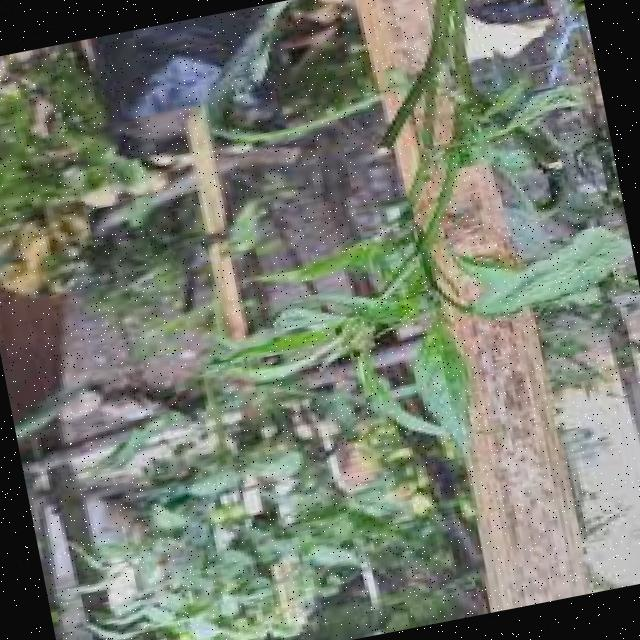leaf curl: (147, 41, 640, 515)
